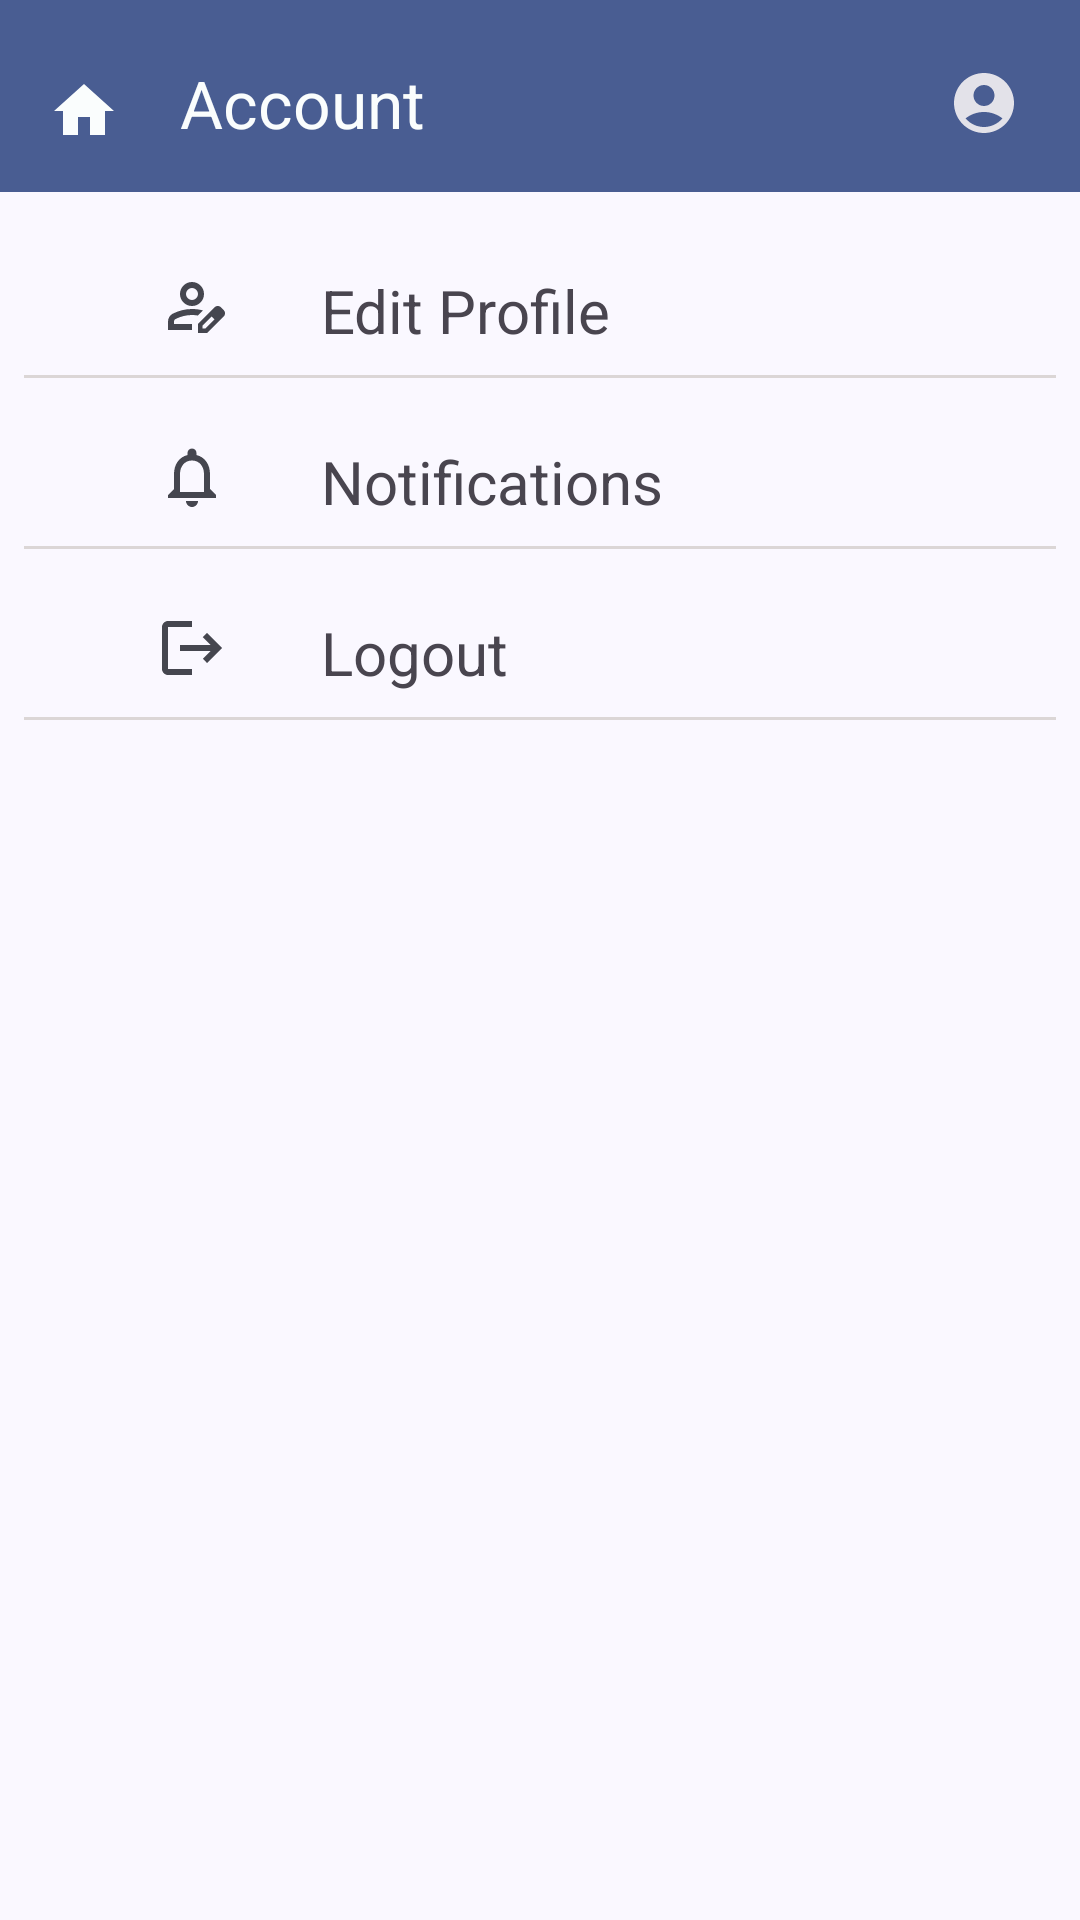

Locate icon controls on the screen. Image size 1080*1920, boxes as [x1=x1, y1=y1, x2=x2, y2=y2].
account: [x1=954, y1=73, x2=1014, y2=133]
person edit: [x1=168, y1=282, x2=225, y2=333]
